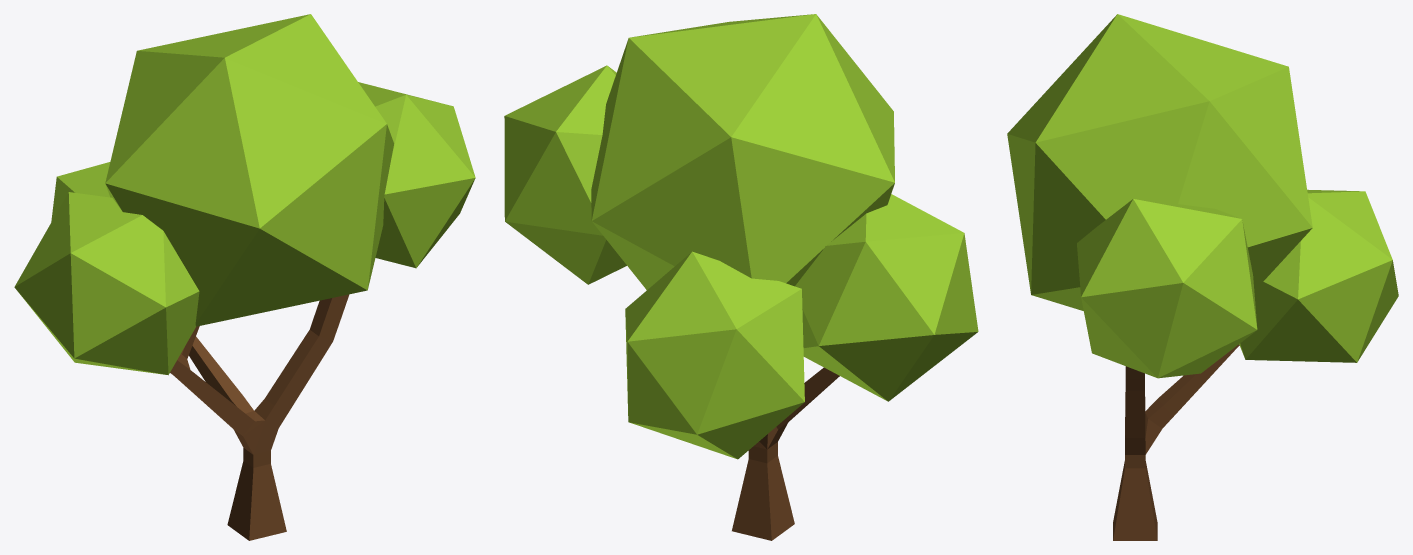
File: arbol_3.fbx
The picture shows the model from 3 angles, left to right: view 1: azimuth 30°, elevation 25°; view 2: azimuth 150°, elevation 25°; view 3: azimuth 270°, elevation 25°; orthographic projection. The views are drawn at different scales.
Parts seen in each view (by area): view 1: hojas, tronco; view 2: hojas, tronco; view 3: hojas, tronco.
Boxes of the visible parts, x1,y1,x2,y2 form: hojas: [14, 14, 475, 375]; tronco: [170, 294, 349, 540]; hojas: [504, 14, 978, 459]; tronco: [732, 367, 839, 540]; hojas: [1007, 14, 1398, 378]; tronco: [1113, 344, 1239, 540].
Size of the model in its own units: 272 by 300 by 214.
